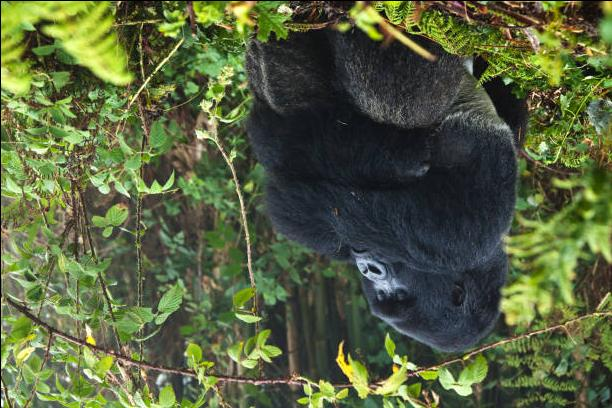goriile_montagne: (228, 34, 524, 376)
